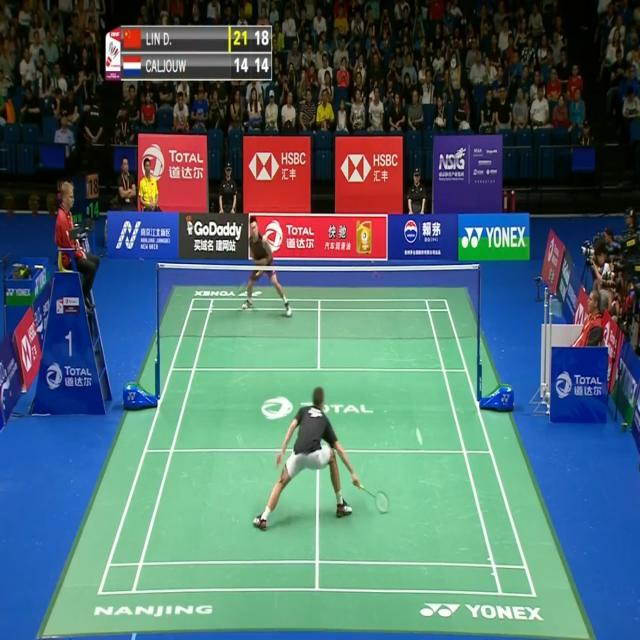Player1: (249, 374, 397, 542)
Player2: (239, 216, 293, 326)
